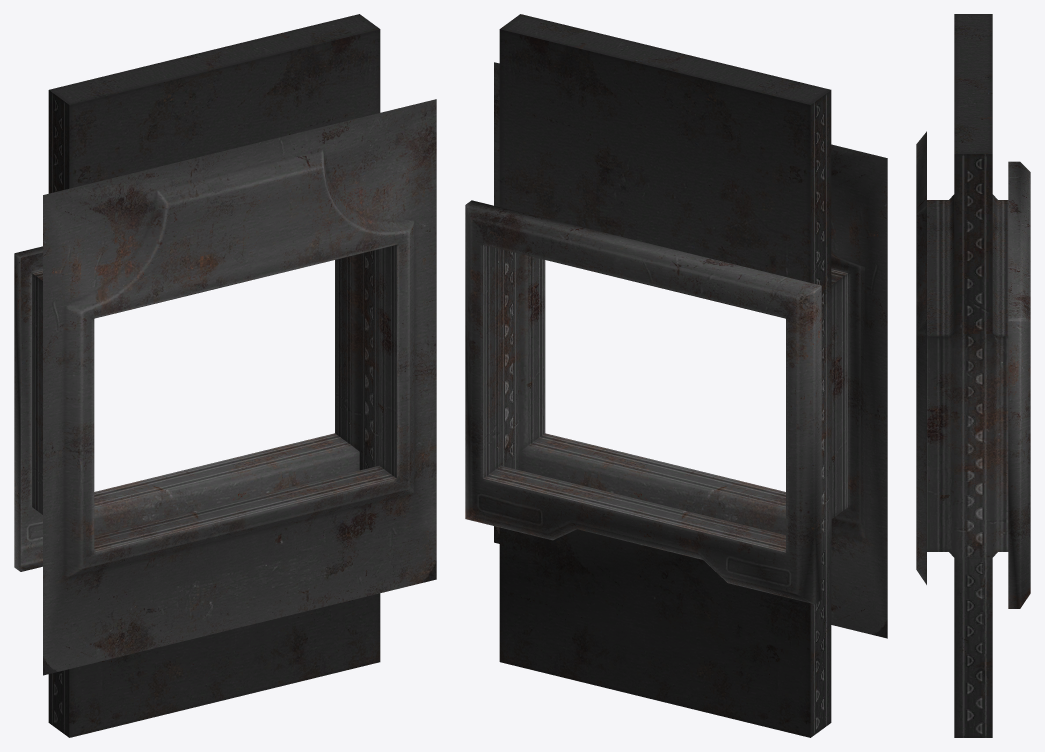
File: slidedoor_hatch_maintenance_tunnels_frame.dae
3 views of the same model, side by side, from view 1: azimuth 30°, elevation 25°; view 2: azimuth 150°, elevation 25°; view 3: azimuth 270°, elevation 25° (orthographic). The views are drawn at different scales.
Visible parts, largest first — view 1: hatch_frame; view 2: hatch_frame; view 3: hatch_frame.
Part boxes in pixels (x1=…): hatch_frame: x1=14, y1=14, x2=436, y2=737; hatch_frame: x1=465, y1=14, x2=887, y2=737; hatch_frame: x1=916, y1=14, x2=1030, y2=737.
Bounding box in the file's own units: 2.25 × 3.46 × 0.6152.
